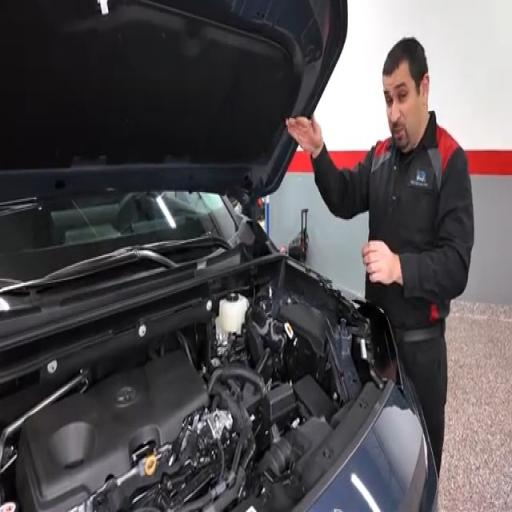bumper: (308, 387, 438, 511)
emblem: (116, 386, 136, 406)
hood: (0, 0, 347, 200)
window: (0, 191, 236, 277)
windshield: (0, 191, 235, 283)
